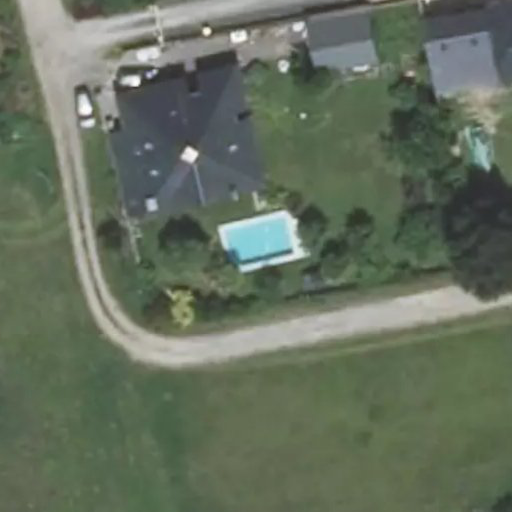pool: (215, 230, 296, 254)
